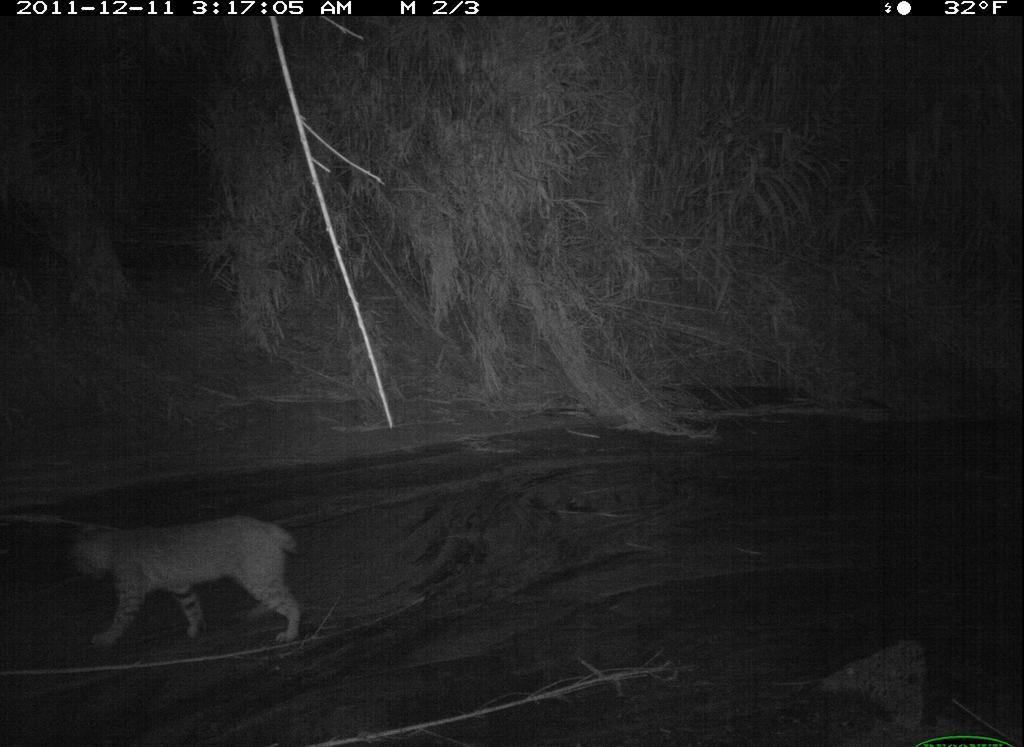bobcat: (68, 506, 310, 651)
